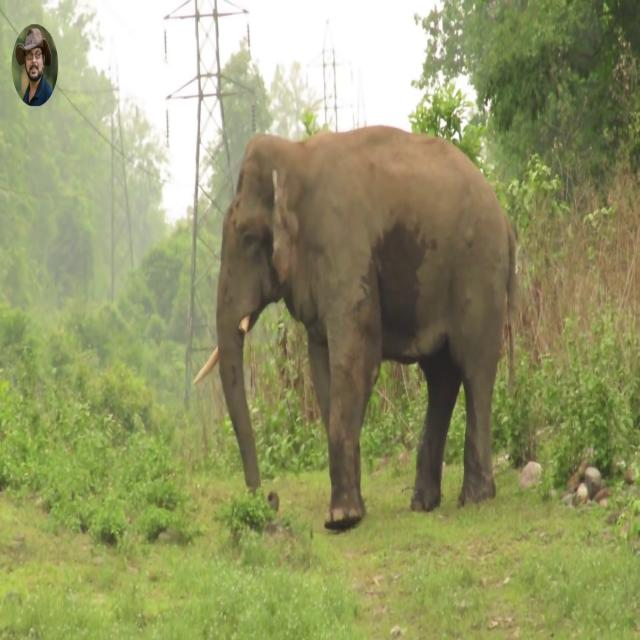Elephant: (192, 124, 518, 530)
